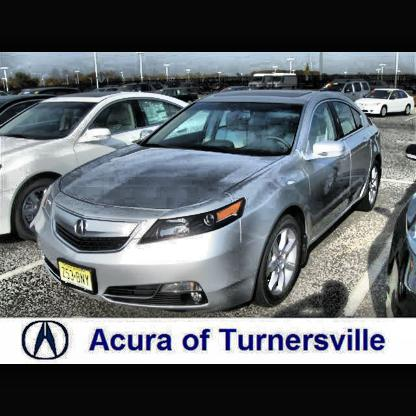Acura TL Sedan 2012: (34, 90, 384, 314)
